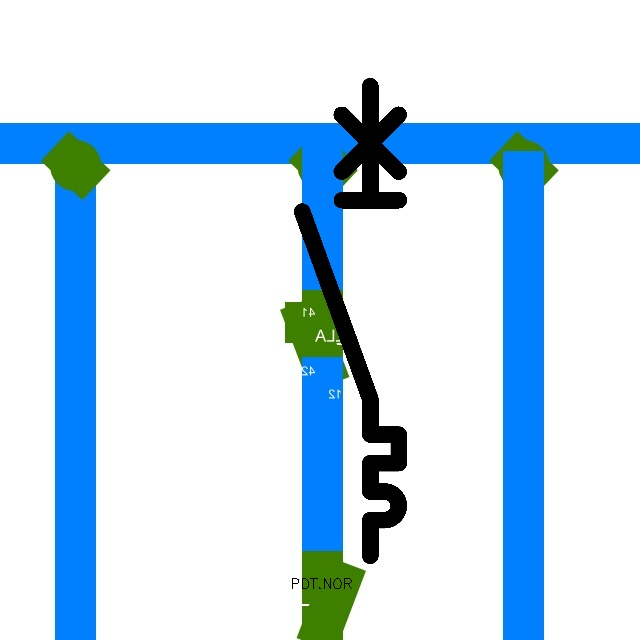interruptor_termomagnetico: (290, 74, 411, 568)
